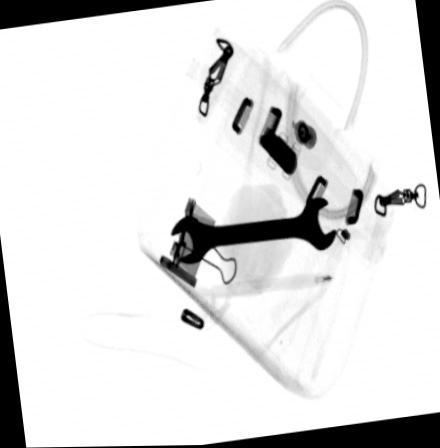Wrench: (168, 196, 338, 268)
